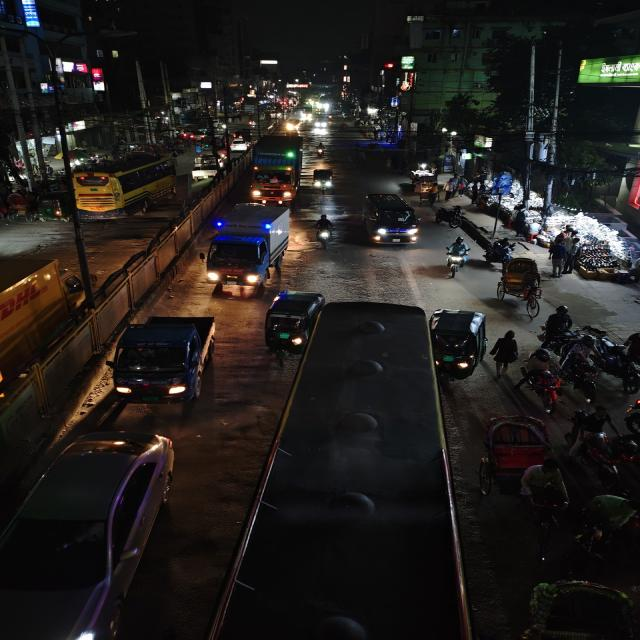bus: (244, 294, 458, 640), (64, 152, 181, 224)
car: (0, 429, 183, 640), (359, 192, 422, 248)
cng: (430, 306, 489, 380), (262, 290, 322, 354), (36, 191, 66, 223), (310, 166, 338, 192)
motorcycle: (572, 323, 639, 398), (576, 426, 640, 478), (518, 348, 568, 408), (444, 235, 472, 280), (313, 212, 337, 250), (622, 392, 640, 439), (434, 205, 465, 230), (312, 142, 328, 158)
pedestrian: (490, 328, 519, 378)
pickup_van: (105, 312, 222, 404), (192, 159, 226, 183)
rickshaw: (509, 576, 640, 640), (473, 412, 564, 497), (494, 256, 546, 316), (5, 190, 35, 224)
truck: (0, 254, 93, 348), (202, 200, 294, 292), (248, 136, 302, 202)
